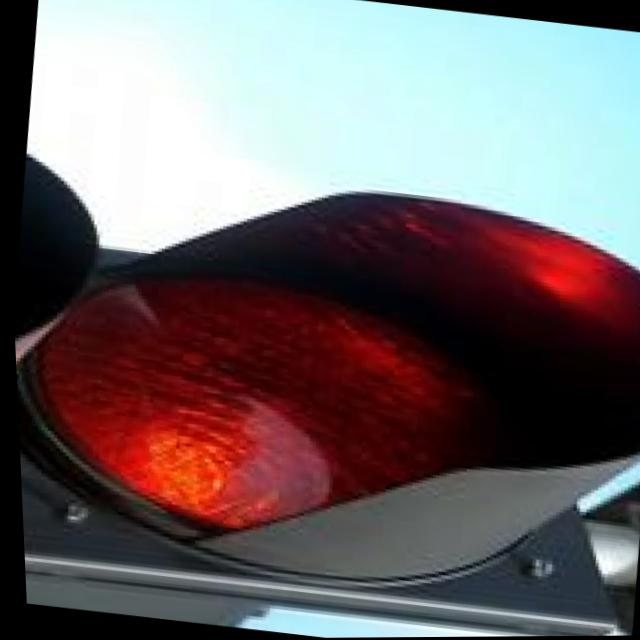red_light: (42, 123, 634, 640)
